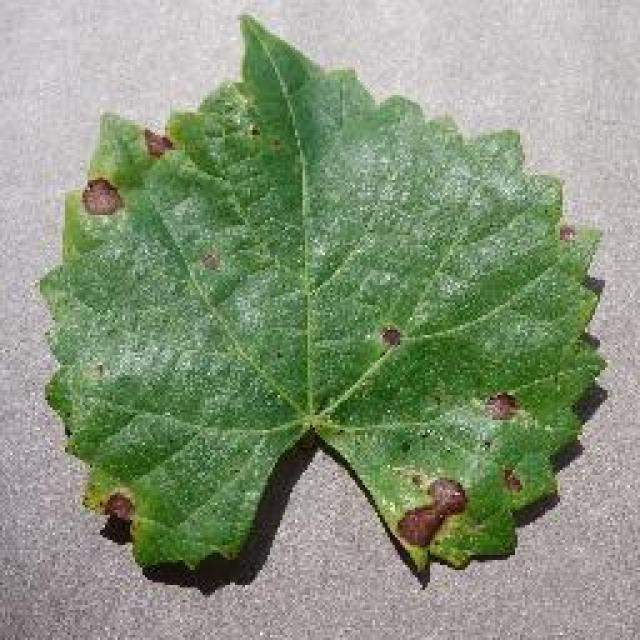Grape___Black_rot: (28, 9, 614, 582)
